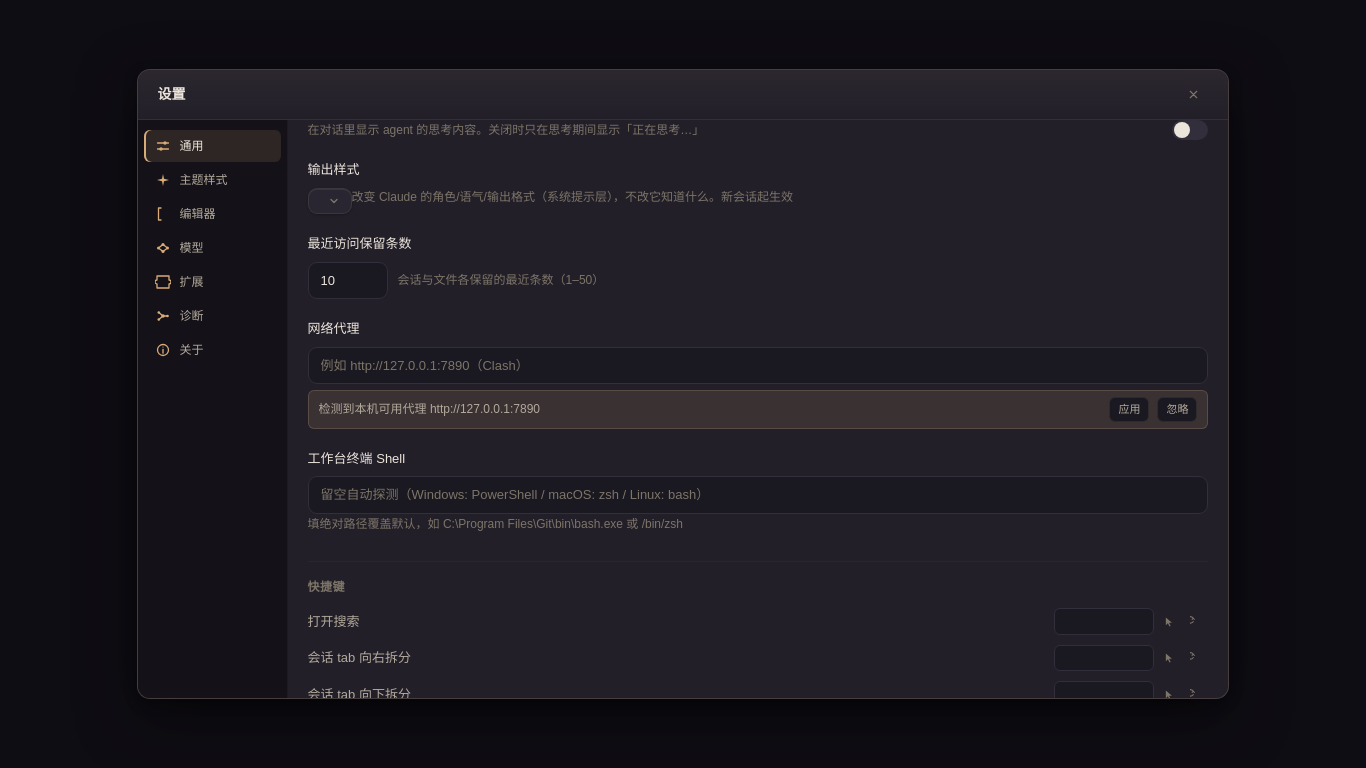
Test: SettingsPanel › offers one-click apply when a live proxy is detected and settings empty
(page scrolled)
Expected: the element showing "检测到本机可用代理 http://127.0.0.1:7890 应用 忽略" is shown, [308,390,1208,429]
Note: 点「应用」→ 填入输入框，提示消失
Click the button "应用" at (1129, 409), box [1109,397,1149,422]
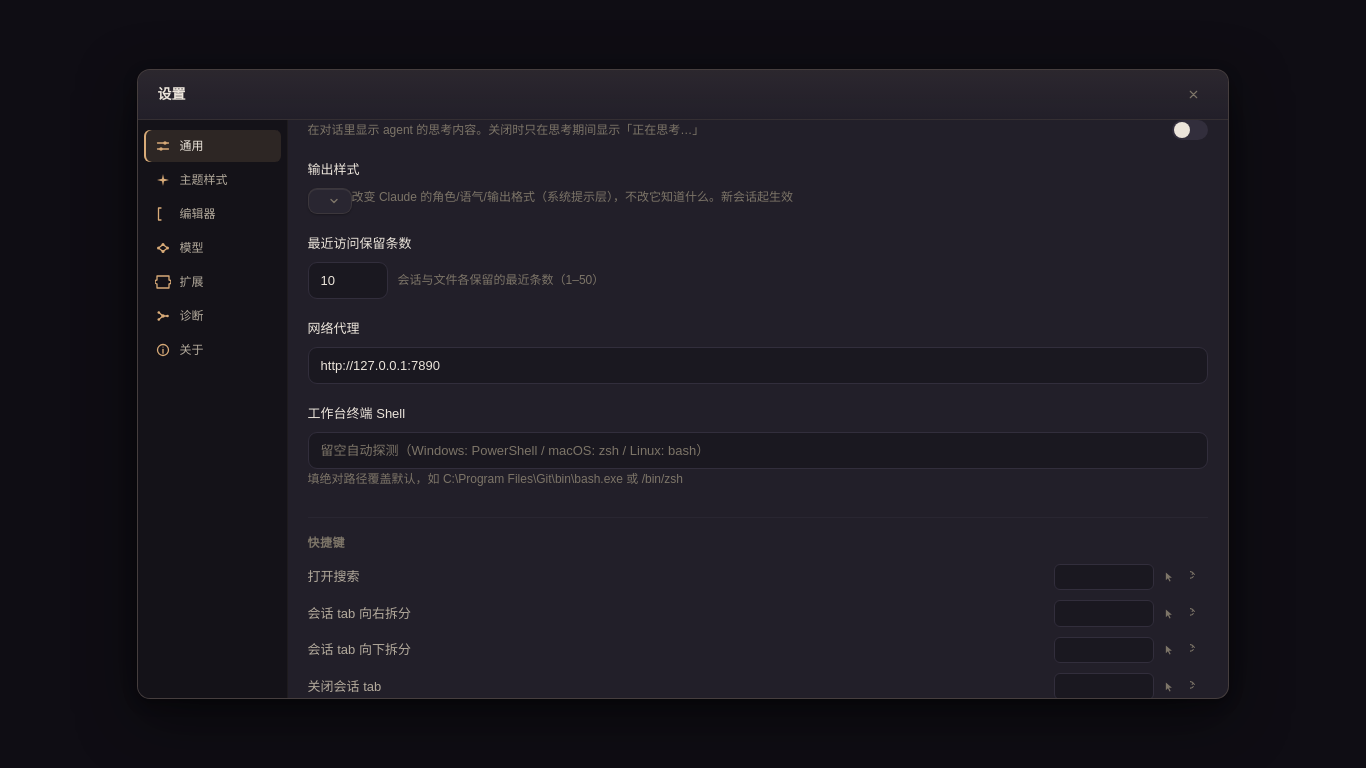
Expected: the field below "网络代理" holds "http://127.0.0.1:7890", [308,347,1208,384]
